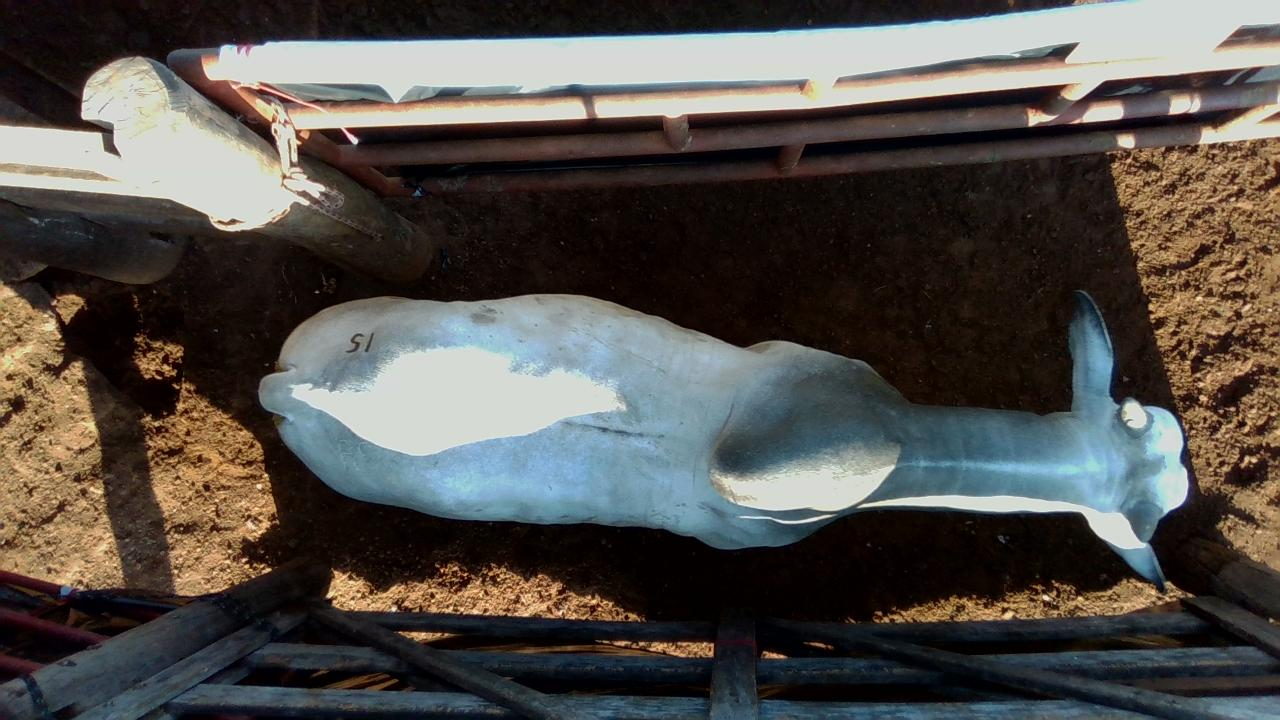cattle: (257, 287, 1191, 591)
